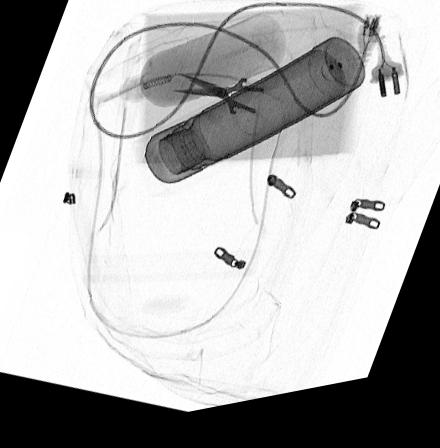Scissors: (169, 76, 291, 145)
